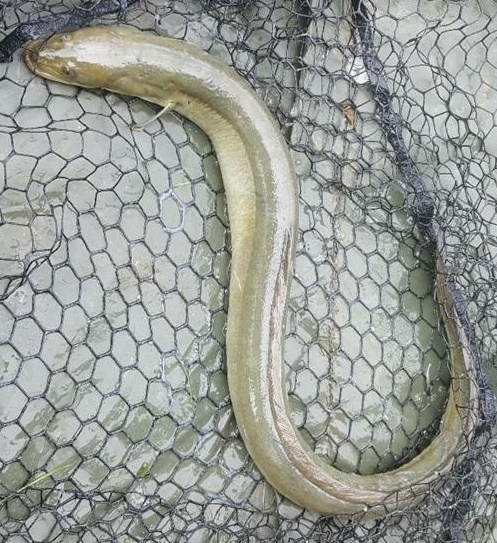Anguilla anguilla: (20, 20, 477, 523)
